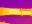Hotspot: (0, 7, 31, 16), (0, 22, 9, 23)
